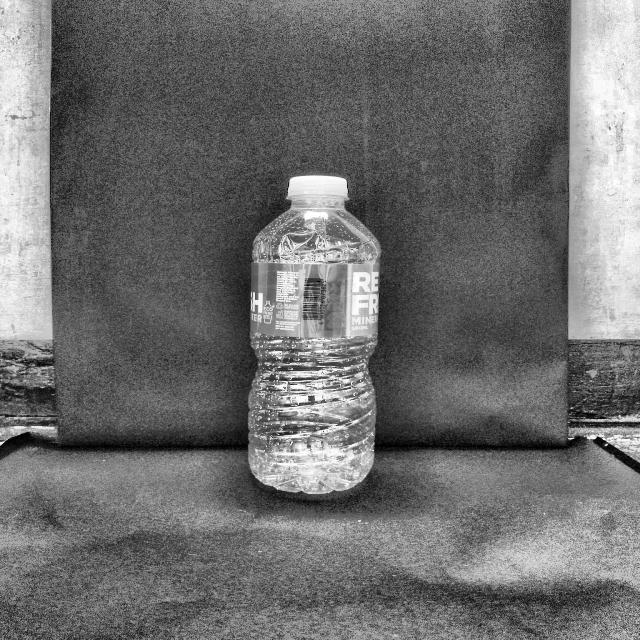Plastic-Bottle: (246, 174, 382, 496)
